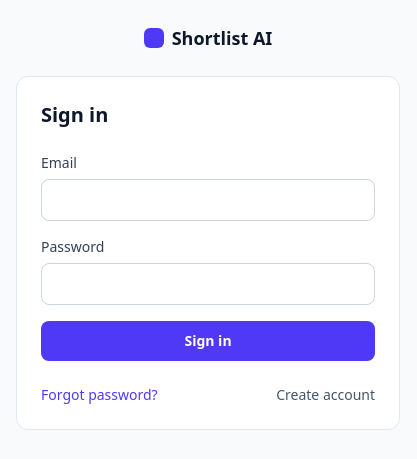
login › sends unconfirmed users to email verification
Type "alex@example.com" into the field labelled "Email" at (208, 200), box left=41, top=179, right=375, bottom=221
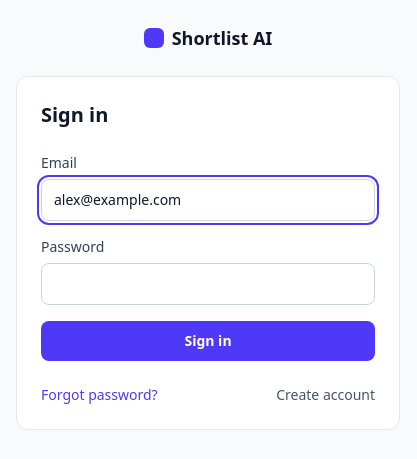
Type "Correct-horse-1" into the password field labelled "Password" at (208, 284), box left=41, top=263, right=375, bottom=305
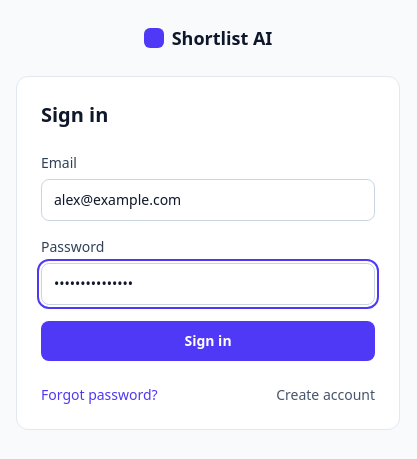
Click the button "Sign in" at (208, 341), box left=41, top=321, right=375, bottom=361
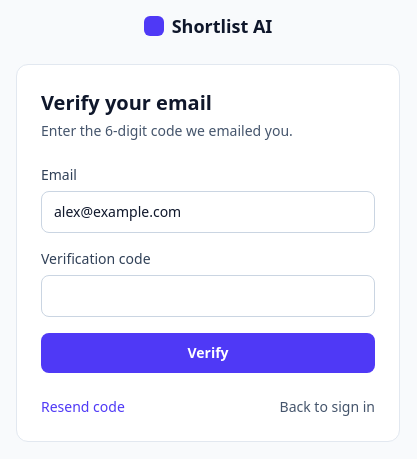
Check: the heading "Verify your email" is shown, box left=41, top=89, right=212, bottom=116
